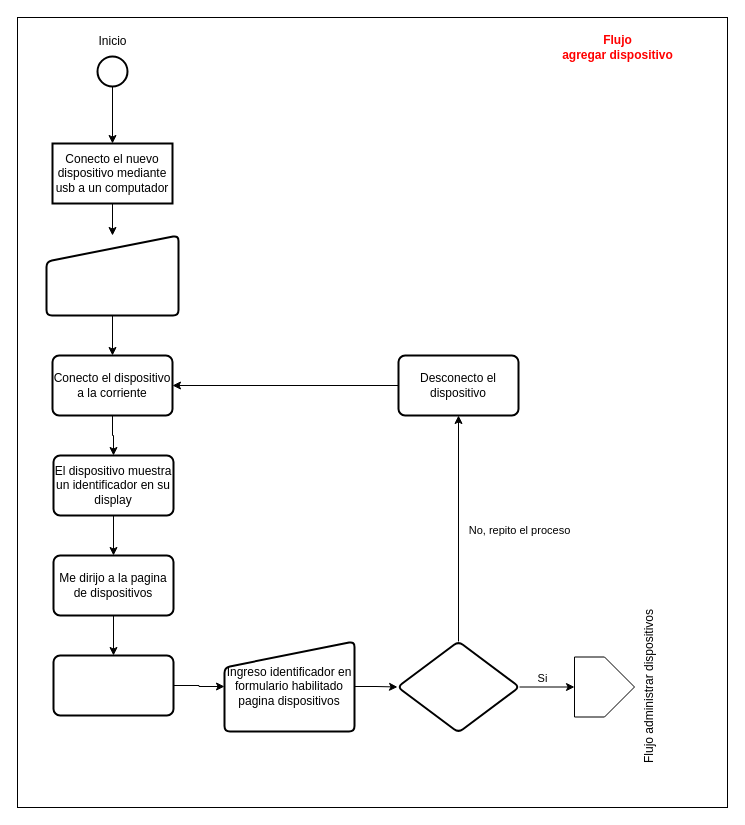
Some shapes in this 745 by 825 pixel diagram are drawn without their labels. The shapes that lost their labels are listed below. From the top down, each one's centre as x and y in pixels, then its label:
pixel 112 275: Lleno el archivo existente con los datos de la red wifi
pixel 113 685: Aprieto botón de agregar dispositivos
pixel 458 686: ¿El dispositivo se agrego?
